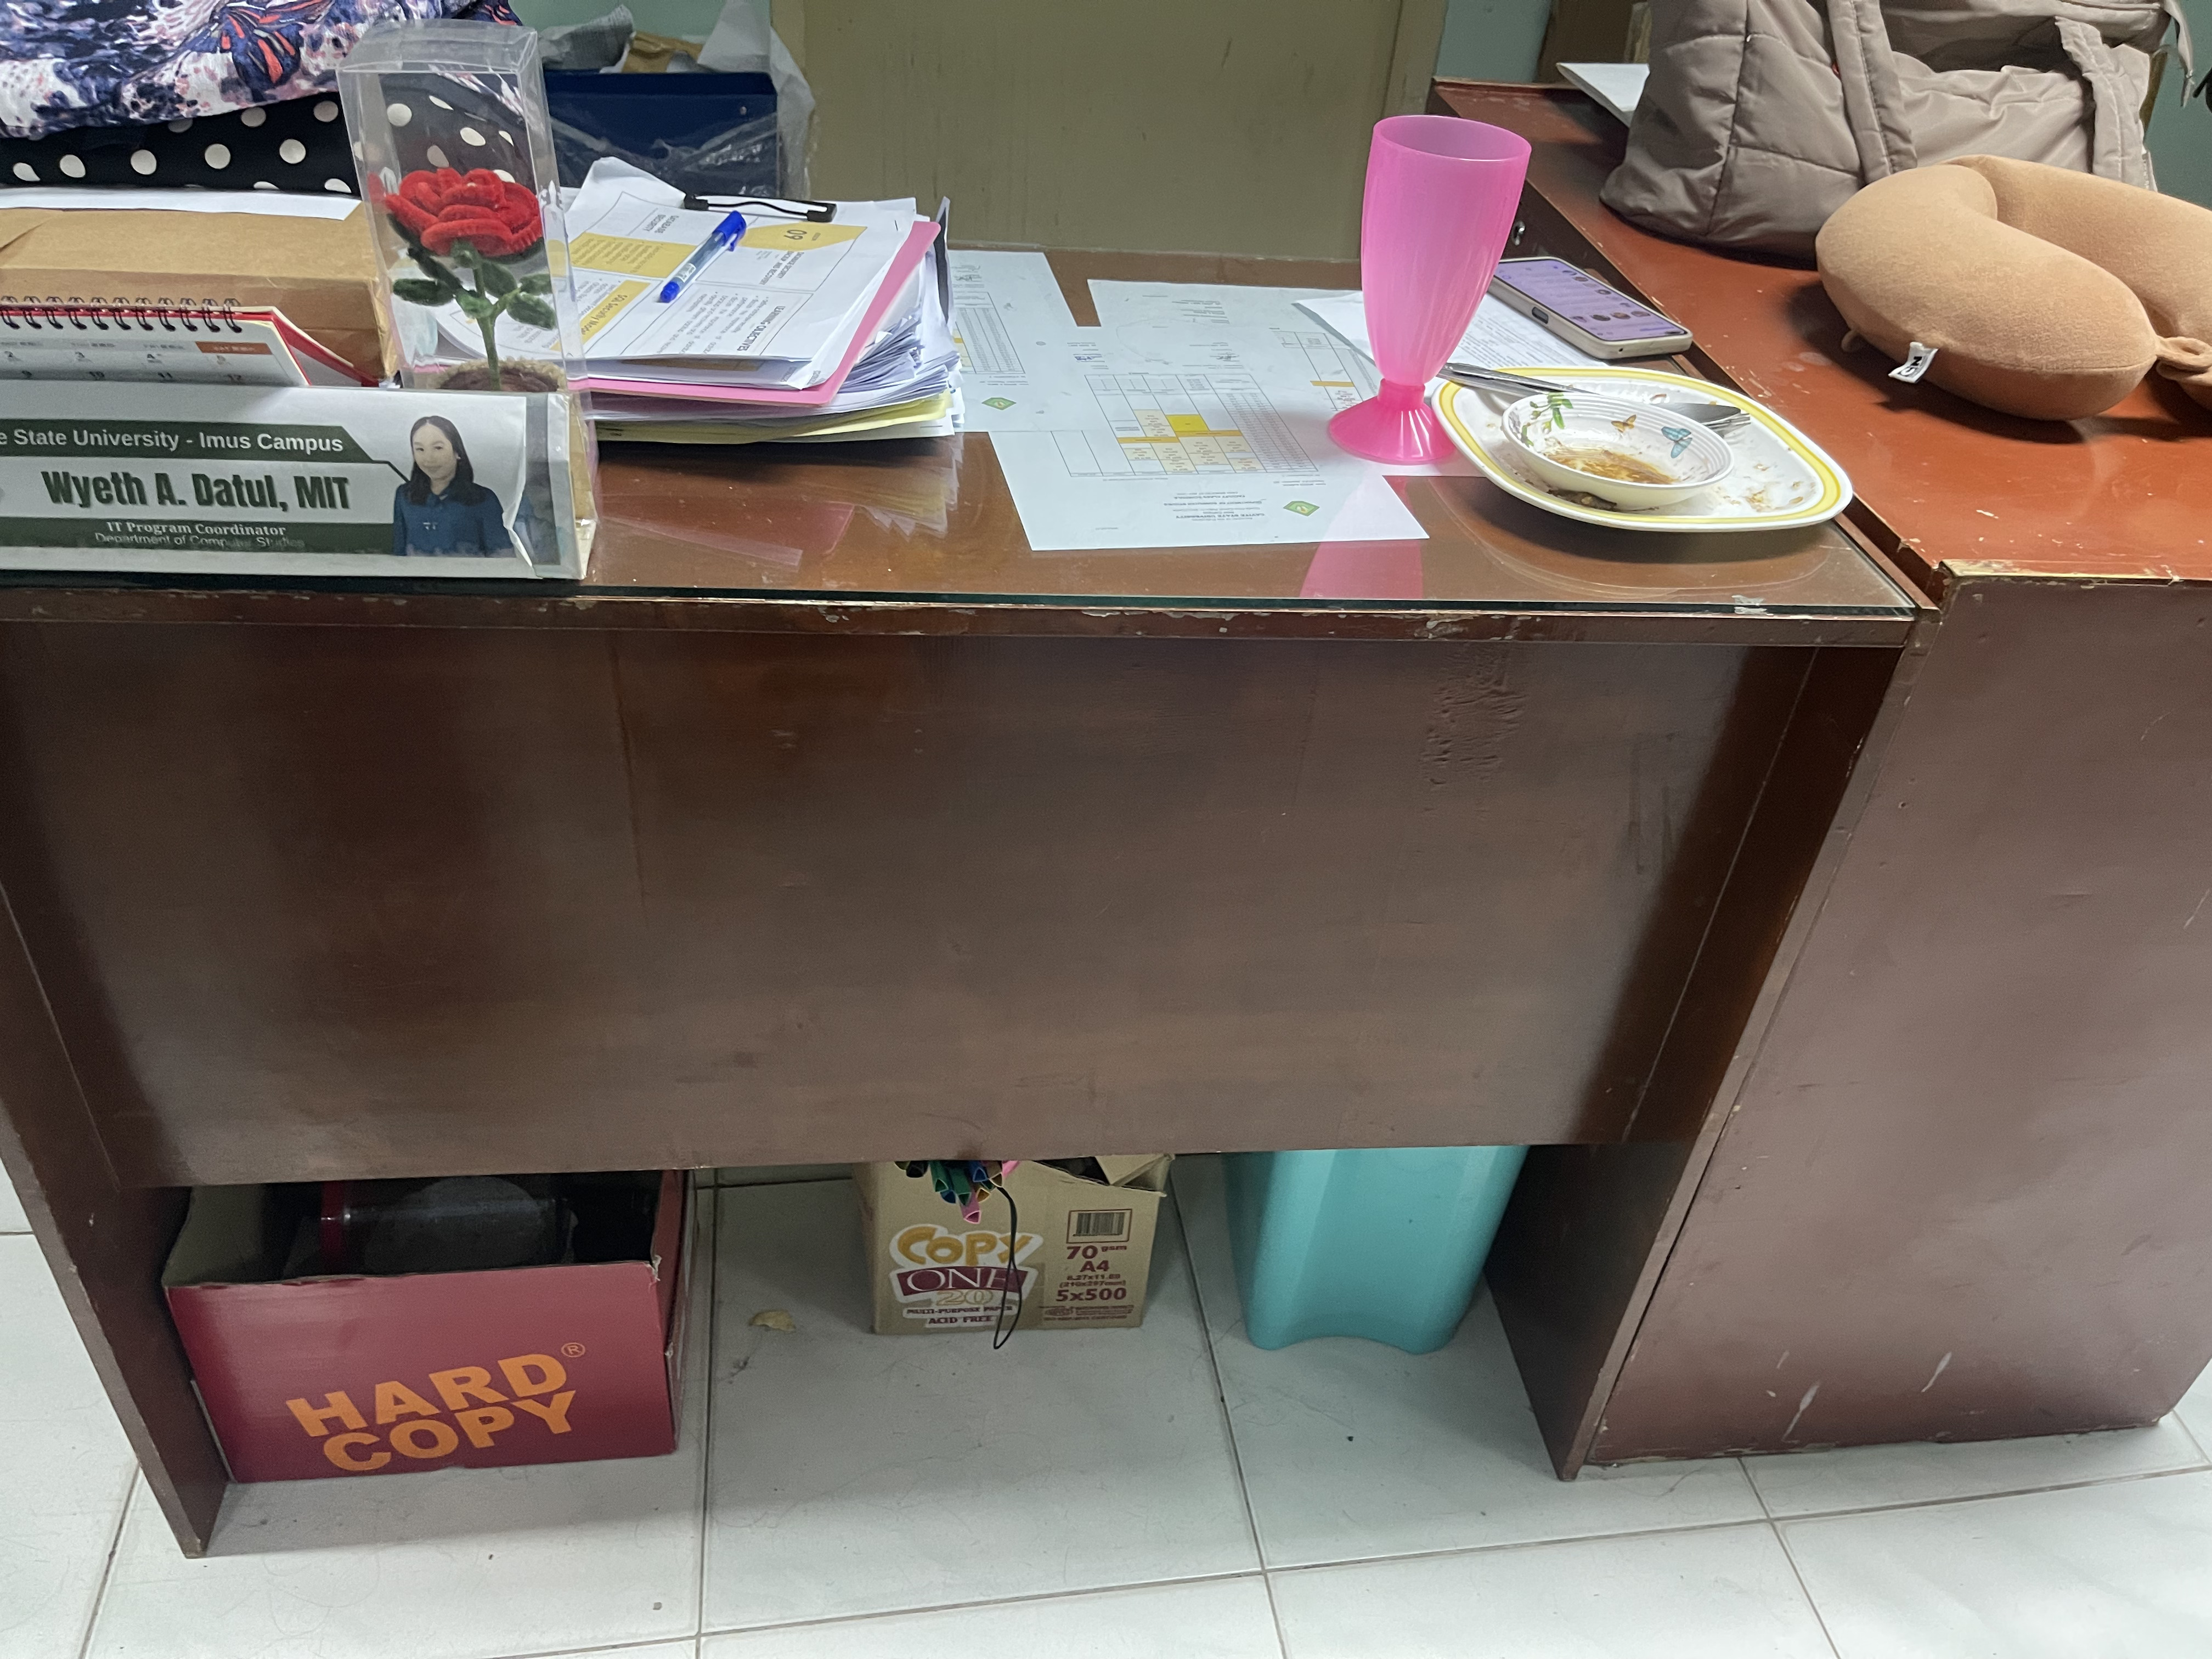table2: (94, 244, 2212, 1581)
